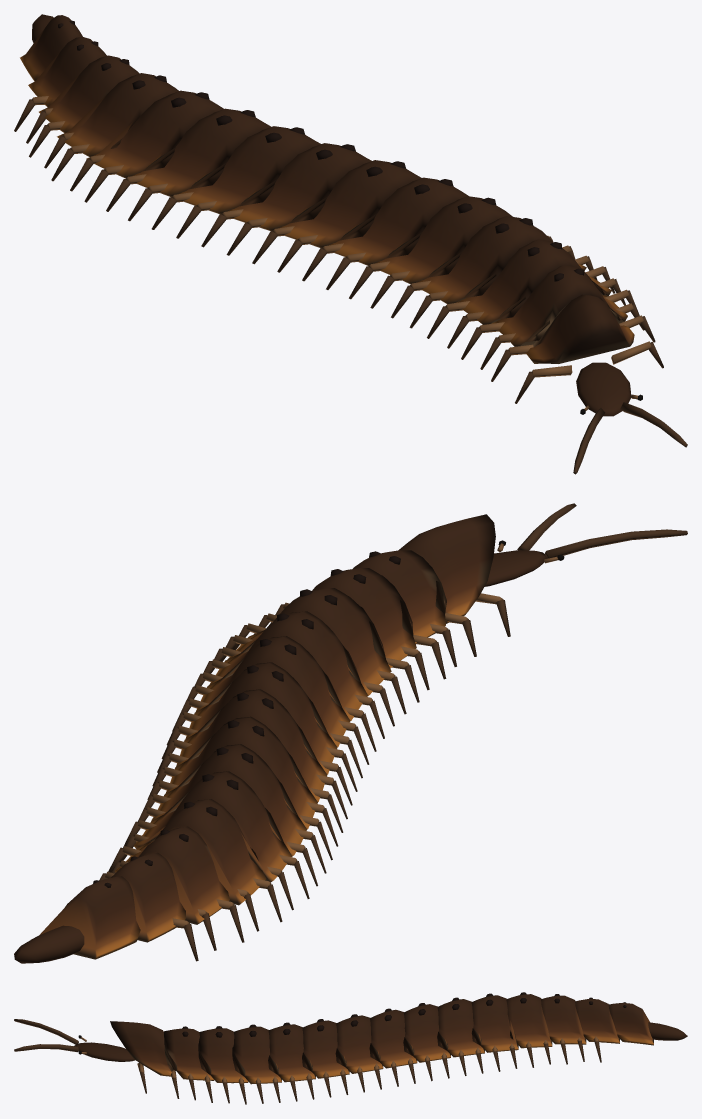
File: PneumodesmusNewmani.fbx
3 views of the same model, one above another, from view 1: azimuth 30°, elevation 25°; view 2: azimuth 150°, elevation 25°; view 3: azimuth 270°, elevation 25° (orthographic). The views are drawn at different scales.
Visible parts, largest first — view 1: PneumodesmusNewmani; view 2: PneumodesmusNewmani; view 3: PneumodesmusNewmani.
Boxes of the visible parts, bbox=[...] form: PneumodesmusNewmani: bbox=[14, 14, 687, 474]; PneumodesmusNewmani: bbox=[14, 503, 687, 963]; PneumodesmusNewmani: bbox=[14, 992, 687, 1104].
Bounding box in the file's own units: 0.5701 × 0.1613 × 1.92.
